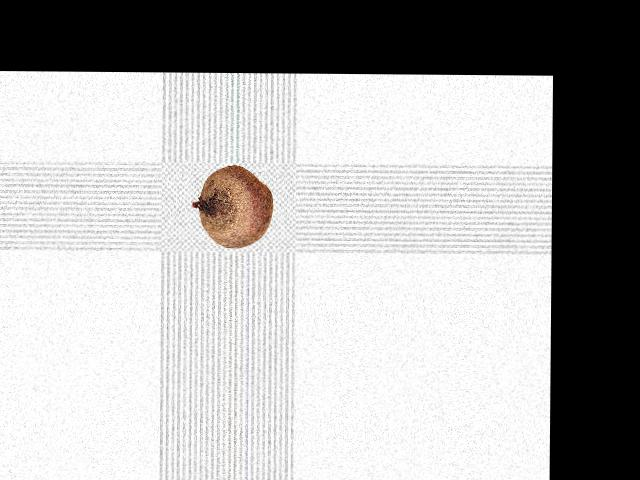beet: (190, 165, 272, 247)
